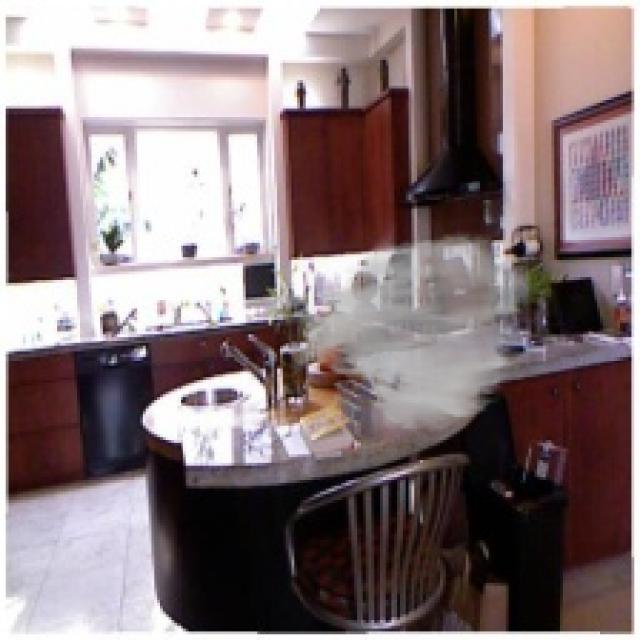smoke: (286, 232, 534, 434)
